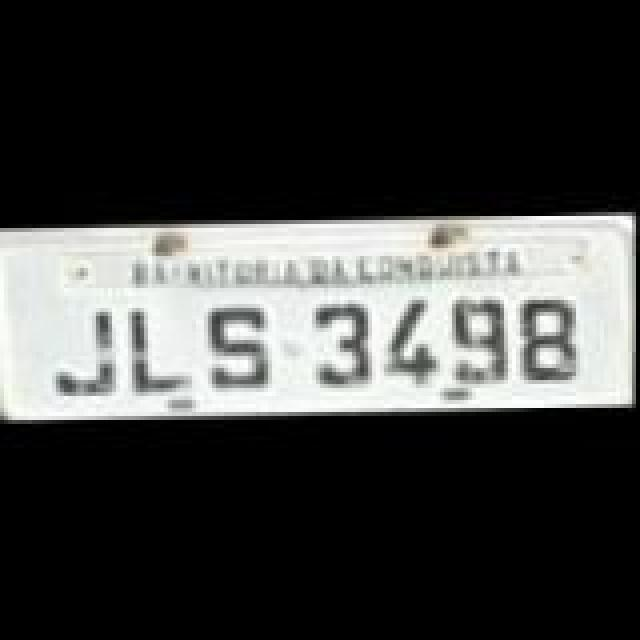3: (310, 296, 370, 388)
4: (382, 294, 442, 386)
8: (516, 296, 580, 384)
9: (452, 294, 508, 386)
J: (52, 310, 116, 402)
L: (128, 302, 200, 398)
S: (208, 304, 272, 392)
